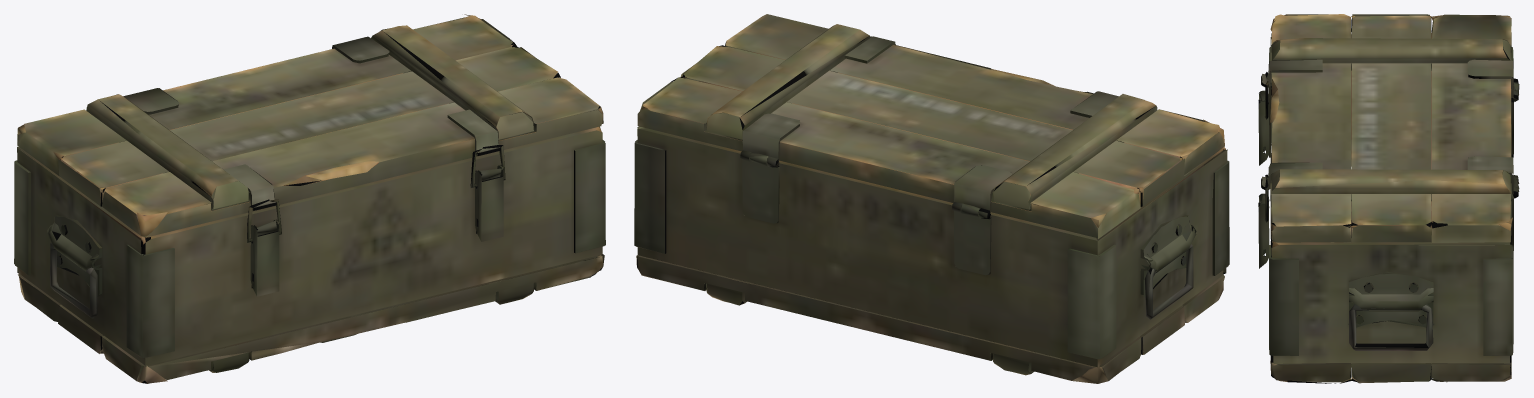
The model's file is ammo_crate.glb.
3 renders of one model, left to right at view 1: azimuth 30°, elevation 25°; view 2: azimuth 150°, elevation 25°; view 3: azimuth 270°, elevation 25°, orthographic. The views are drawn at different scales.
Parts seen in each view (by area): view 1: ammo_crate; view 2: ammo_crate; view 3: ammo_crate.
Part boxes in pixels (x1=…): ammo_crate: x1=14, y1=14, x2=605, y2=383; ammo_crate: x1=634, y1=14, x2=1229, y2=383; ammo_crate: x1=1258, y1=14, x2=1519, y2=383.
Size of the model in its own units: 0.9205 by 0.3441 by 0.4604.
1 material, 1 textured.
